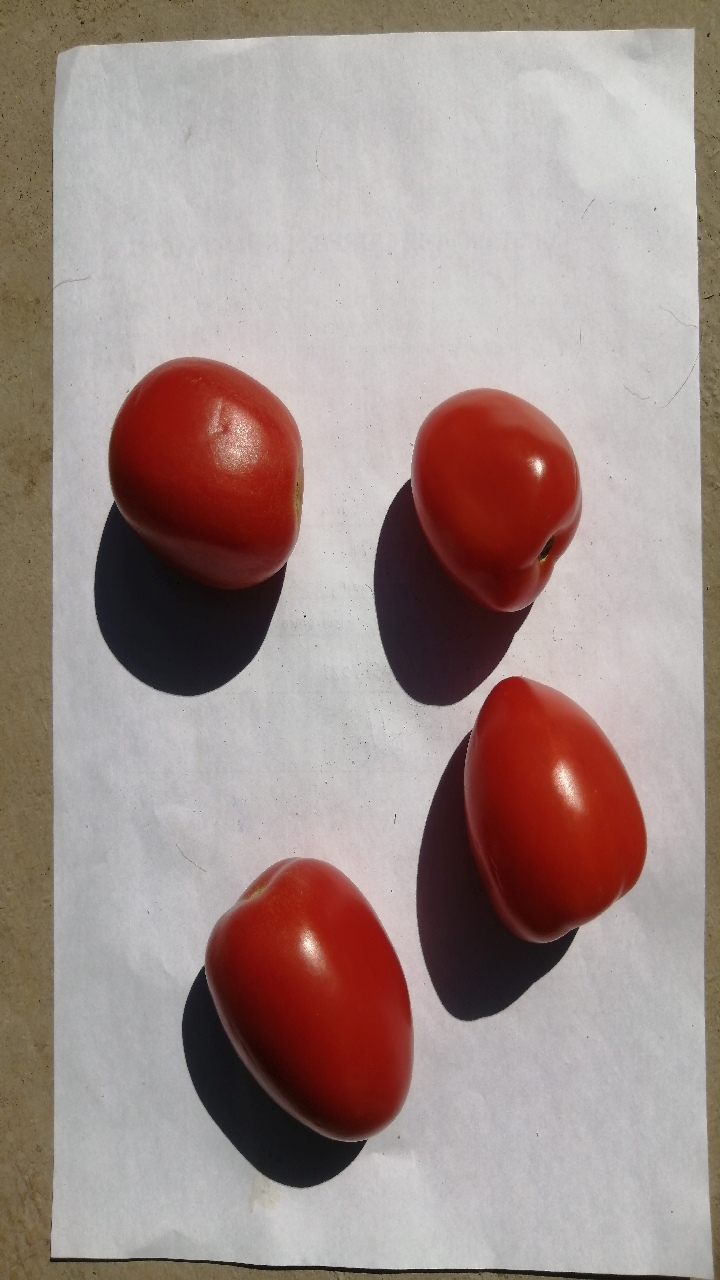tomateRojo: (181, 828, 440, 1151), (420, 646, 660, 975), (84, 323, 323, 620), (397, 366, 594, 643)
